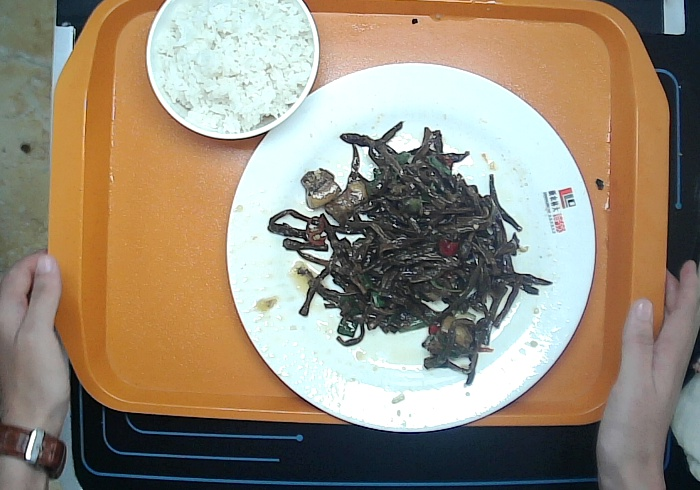ZNLD-Da_Yuan_Pan: (226, 61, 599, 434)
ZNLD-Fan_Wan: (144, 1, 321, 141)
